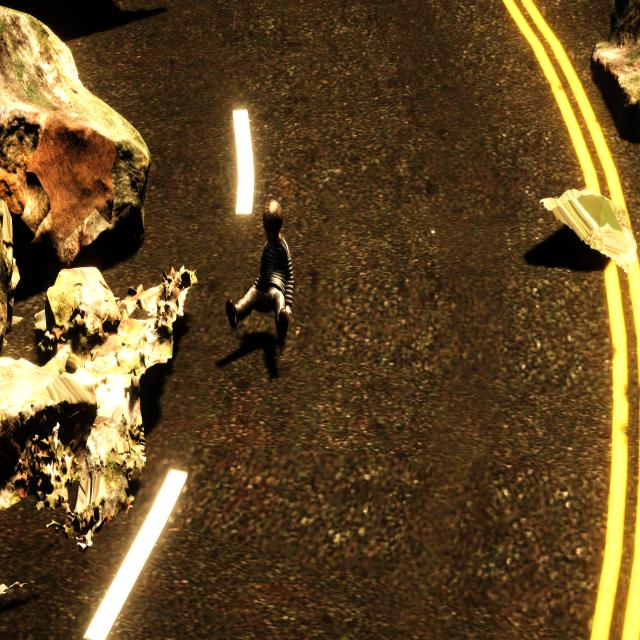Human: (224, 195, 298, 352)
